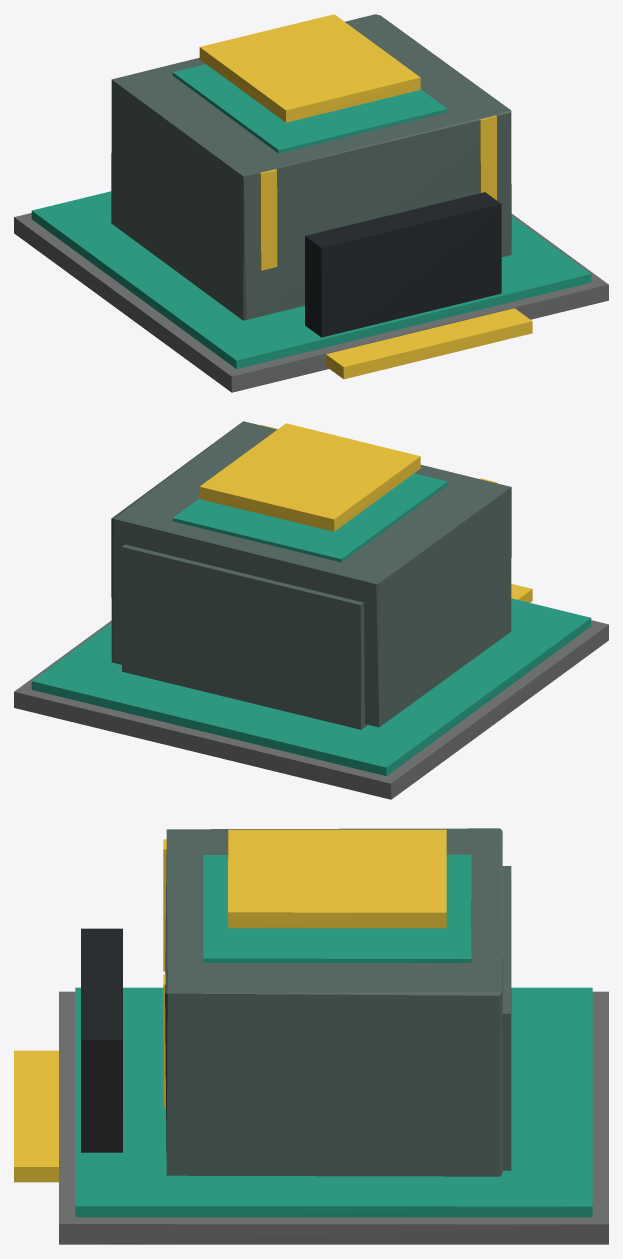
File: SM_Coalition_CO_WarFactory_LOD3.fbx
3 renders of one model, top to bottom at view 1: azimuth 30°, elevation 25°; view 2: azimuth 150°, elevation 25°; view 3: azimuth 270°, elevation 25°, orthographic. The views are drawn at different scales.
Parts seen in each view (by area): view 1: LOD03_SM_Coalition_CO_WarFactory; view 2: LOD03_SM_Coalition_CO_WarFactory; view 3: LOD03_SM_Coalition_CO_WarFactory.
Part boxes in pixels (bbox=[...]): LOD03_SM_Coalition_CO_WarFactory: bbox=[14, 14, 608, 392]; LOD03_SM_Coalition_CO_WarFactory: bbox=[14, 421, 608, 799]; LOD03_SM_Coalition_CO_WarFactory: bbox=[14, 828, 608, 1244].
Bounding box in the file's own units: 797 × 862 × 411.
